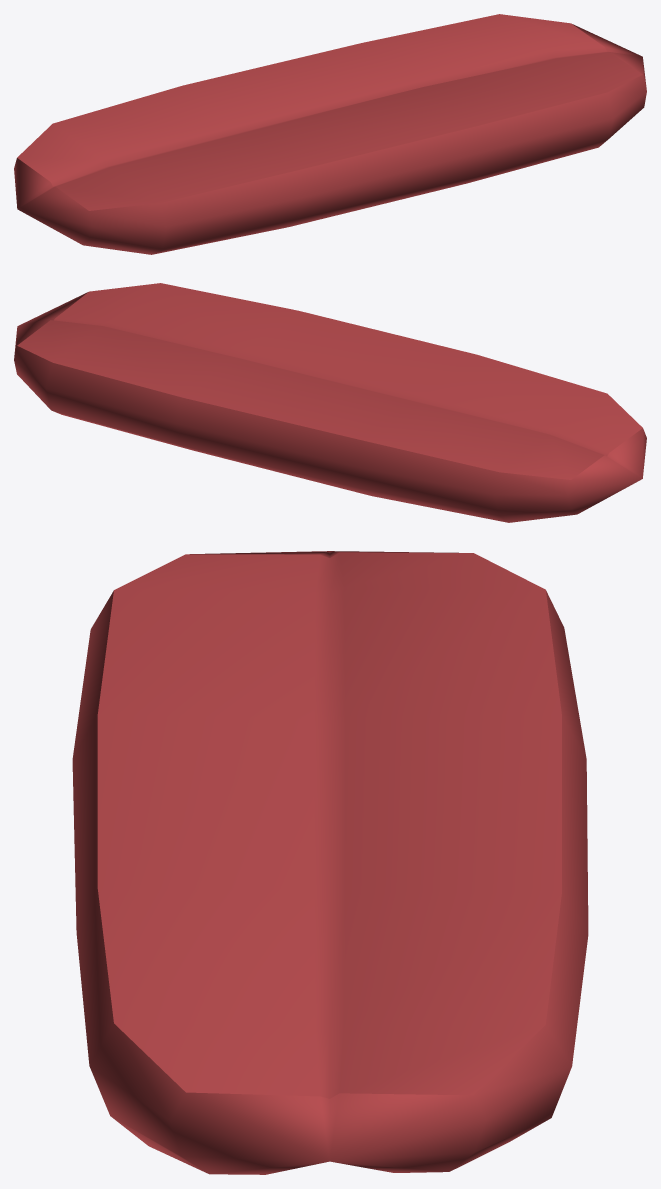
File: chorizo_mariposa.glb
3 renders of one model, top to bottom at view 1: azimuth 30°, elevation 25°; view 2: azimuth 150°, elevation 25°; view 3: azimuth 270°, elevation 25°, orthographic. The views are drawn at different scales.
Visible parts, largest first — view 1: pieza_chorizo; view 2: pieza_chorizo; view 3: pieza_chorizo.
Part boxes in pixels (x1=…): pieza_chorizo: x1=14, y1=14, x2=646, y2=254; pieza_chorizo: x1=14, y1=283, x2=646, y2=522; pieza_chorizo: x1=72, y1=551, x2=588, y2=1174.
Size of the model in its own units: 0.14 by 0.015 by 0.05.
